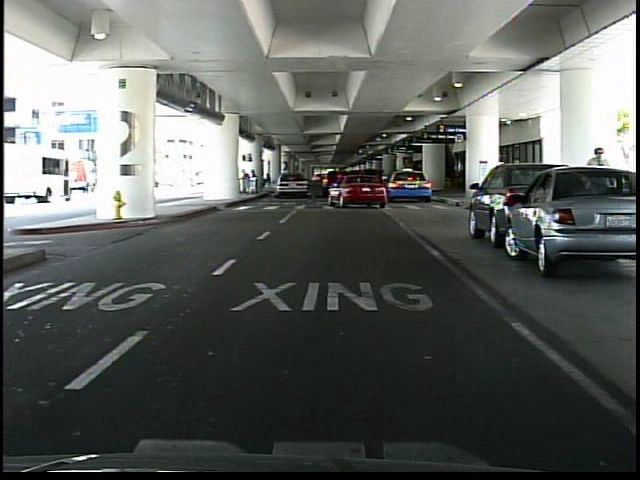person: (584, 144, 609, 231)
